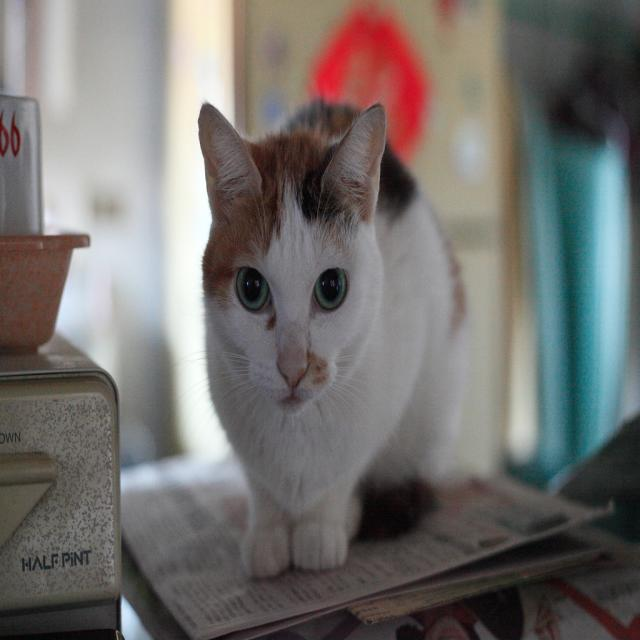Cat: (163, 97, 468, 578)
